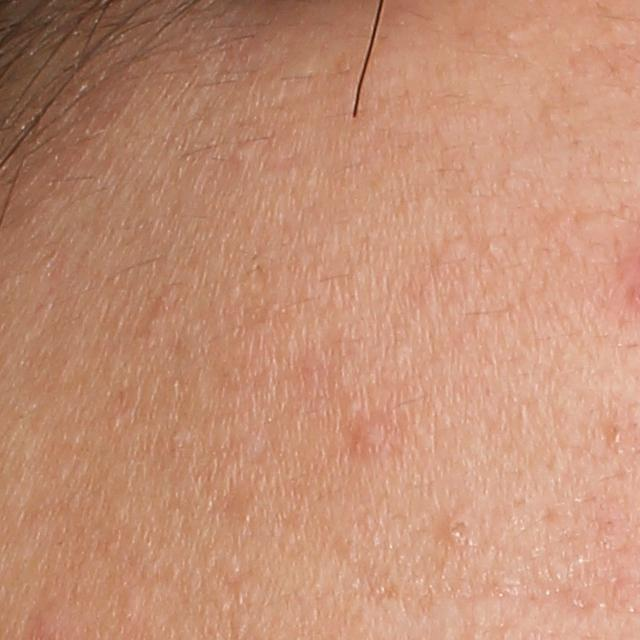comedo: (348, 421, 387, 456), (440, 516, 471, 545), (231, 141, 258, 166), (482, 237, 503, 260), (504, 27, 519, 46)
